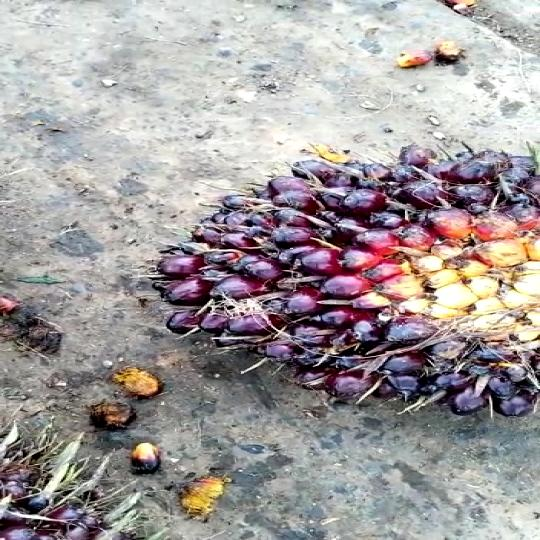mentah: (139, 131, 540, 429)
